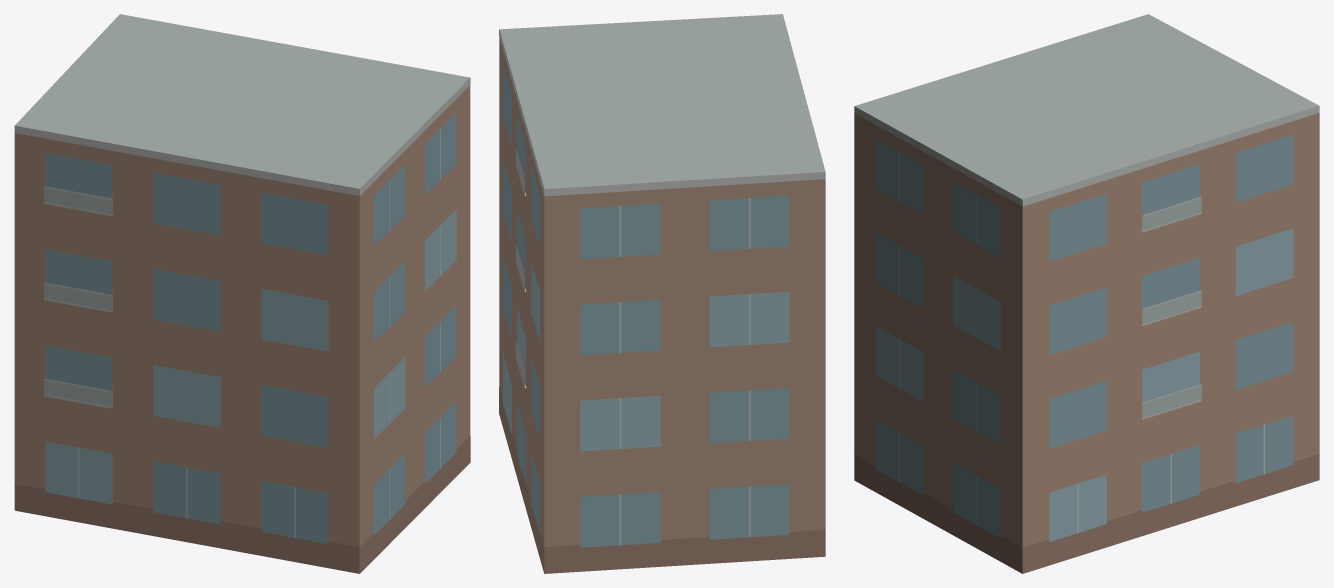
The model's file is survey-upis-32730039.glb.
3 views of the same model, side by side, from view 1: azimuth 30°, elevation 25°; view 2: azimuth 150°, elevation 25°; view 3: azimuth 270°, elevation 25° (orthographic). The views are drawn at different scales.
Visible parts, largest first — view 1: survey-upis-32730039.tmp; view 2: survey-upis-32730039.tmp; view 3: survey-upis-32730039.tmp.
Boxes of the visible parts, x1,y1,x2,y2 form: survey-upis-32730039.tmp: (14,14,470,573); survey-upis-32730039.tmp: (499,14,825,573); survey-upis-32730039.tmp: (854,14,1319,573).
Size of the model in its own units: 13.81 by 12.98 by 14.63.
